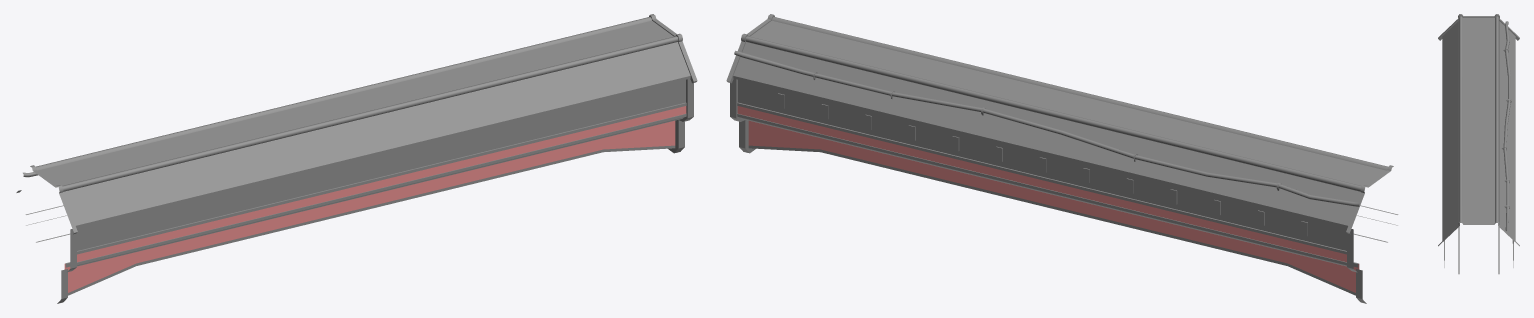
File: SM_ENV_LKNVLD_CommonBuilding_A5.gltf
The picture shows the model from 3 angles, left to right: view 1: azimuth 30°, elevation 25°; view 2: azimuth 150°, elevation 25°; view 3: azimuth 270°, elevation 25°; orthographic projection. The views are drawn at different scales.
Visible parts, largest first — view 1: SM_ENV_LKNVLD_CommonBuilding_A5; view 2: SM_ENV_LKNVLD_CommonBuilding_A5; view 3: SM_ENV_LKNVLD_CommonBuilding_A5.
Part boxes in pixels (<box>): SM_ENV_LKNVLD_CommonBuilding_A5: <box>16,14,697,303</box>; SM_ENV_LKNVLD_CommonBuilding_A5: <box>726,14,1398,303</box>; SM_ENV_LKNVLD_CommonBuilding_A5: <box>1438,14,1519,274</box>.
Size of the model in its own units: 48.1 by 8.68 by 7.96.
